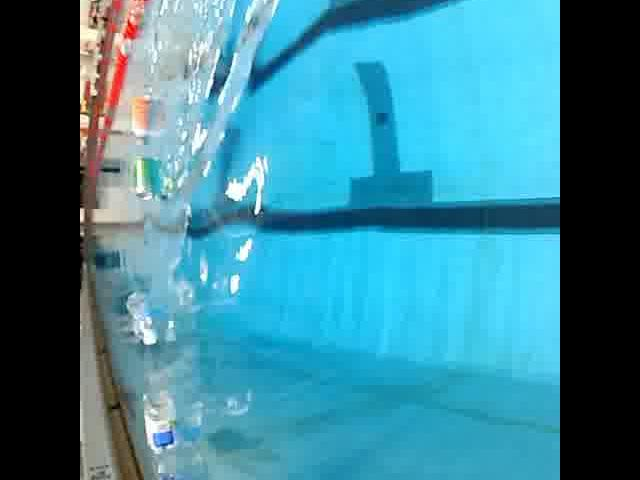Bottle: (140, 381, 182, 480), (122, 284, 160, 350), (129, 90, 157, 150)
Can: (131, 153, 163, 202)
